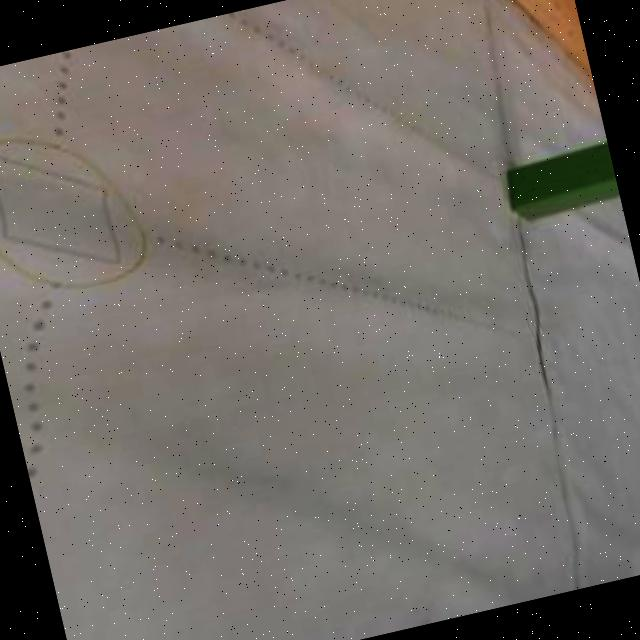greenbox: (497, 135, 621, 226)
